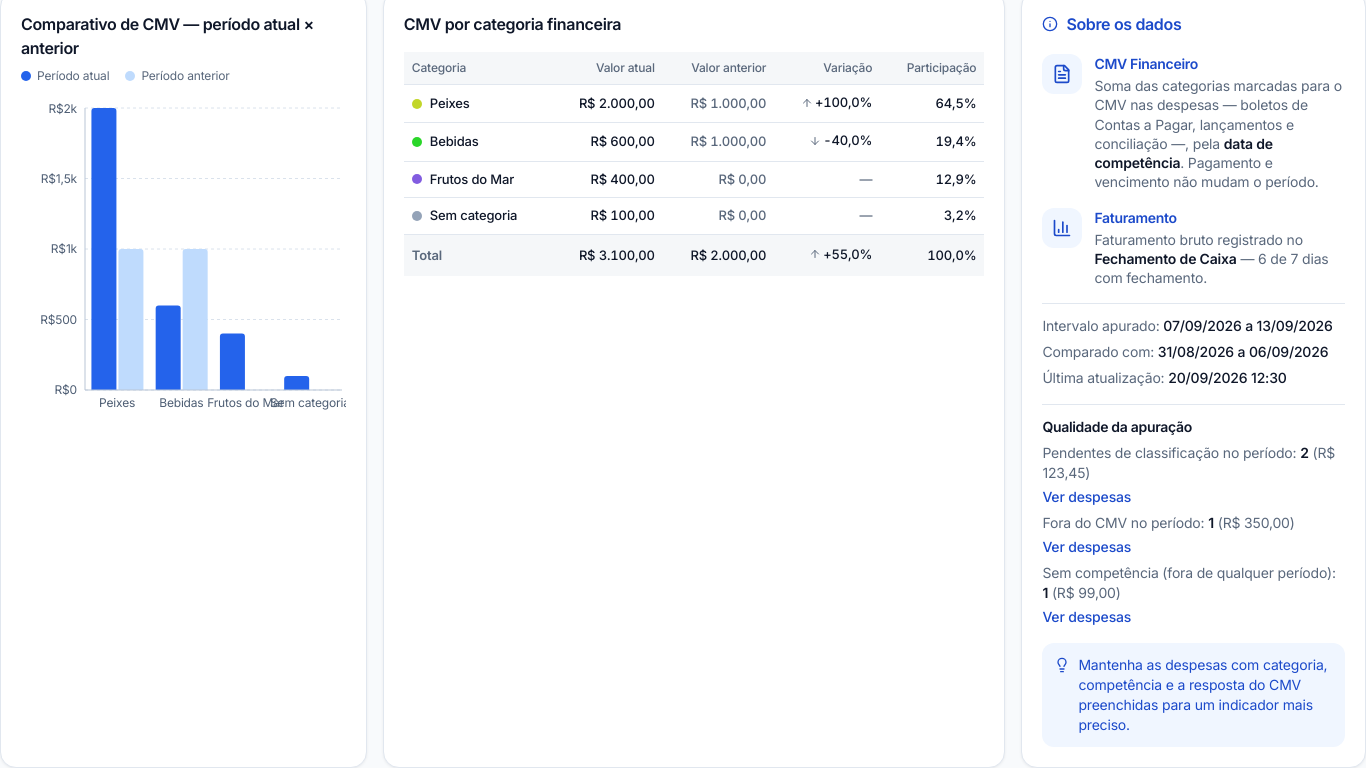
Test: CMV Financeiro — tela › pendências abrem a lista de boletos pendentes do período
The image size is (1366, 768).
(page scrolled)
Click the button "Ver despesas" below "Pendentes de classificação no período" at (1087, 497), box [1042, 487, 1131, 507]
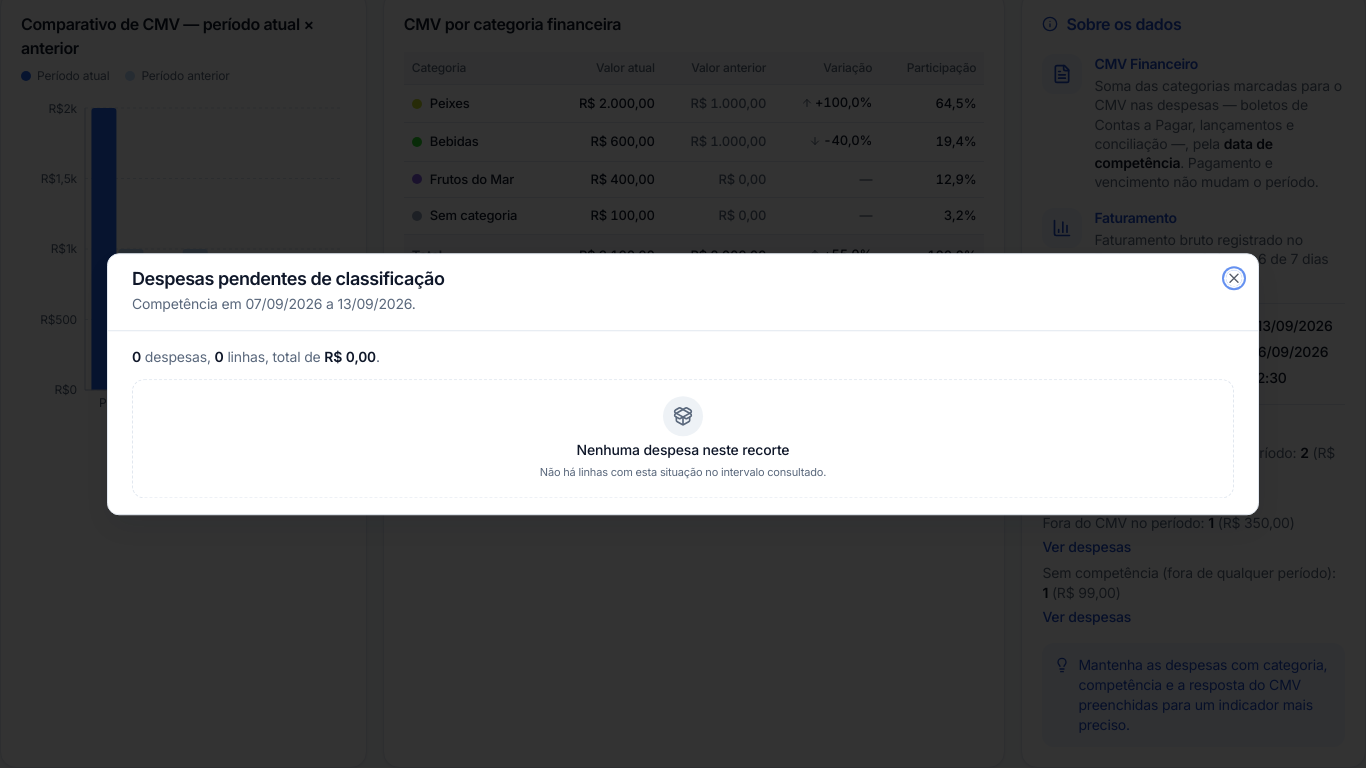
Expected: the dialog "Despesas pendentes de classificação" is shown, [107, 253, 1259, 515]
